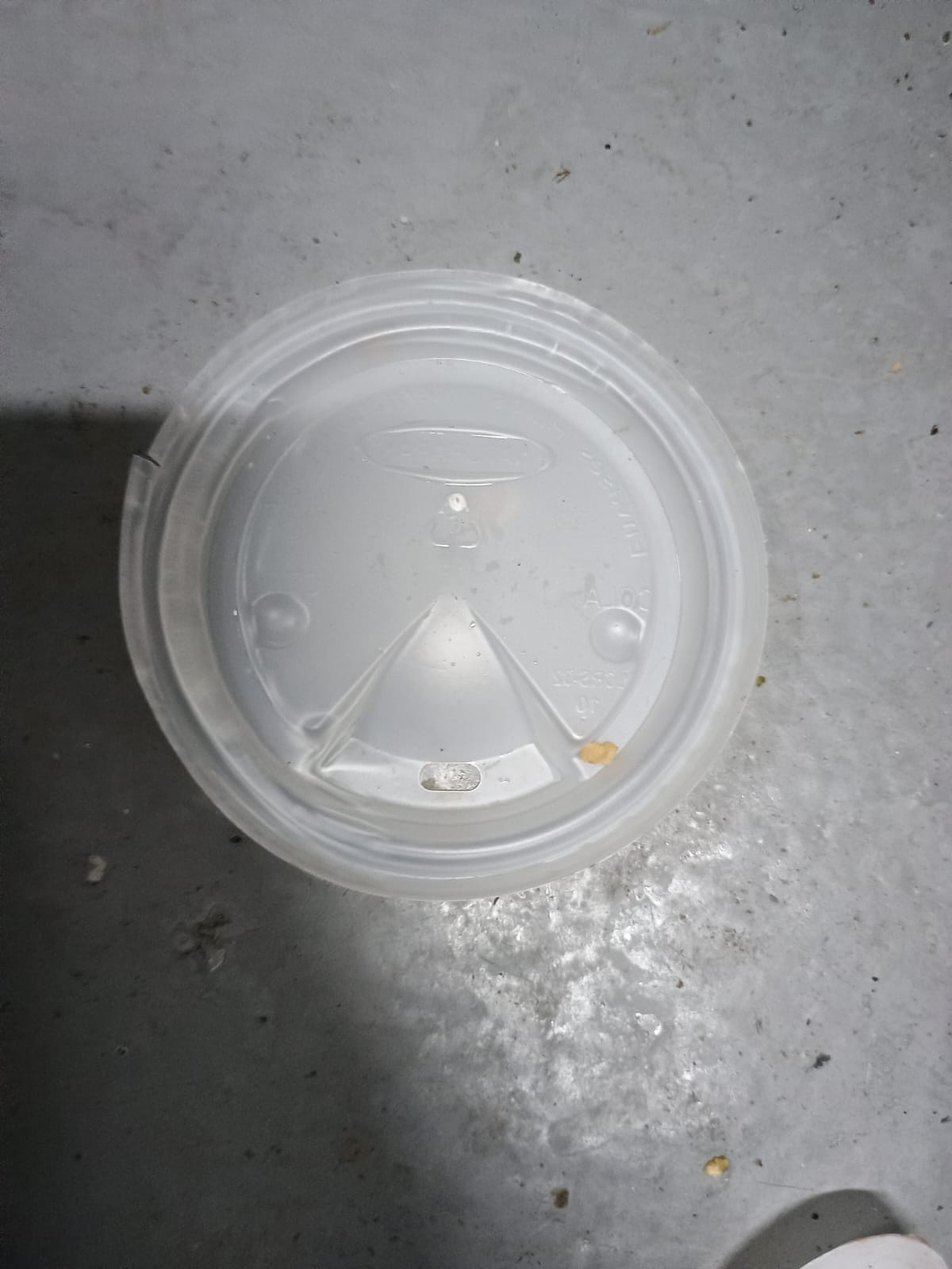Ordinario: (119, 265, 777, 897)
